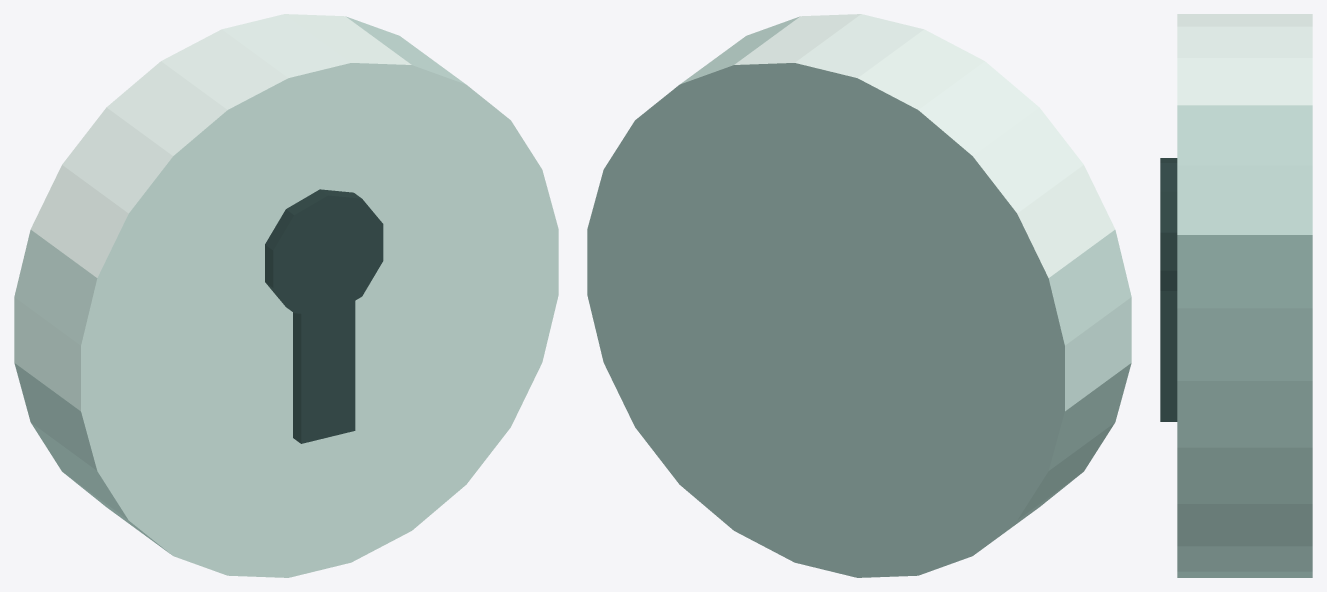
File: LockWall_Emblem.gltf
3 renders of one model, left to right at view 1: azimuth 30°, elevation 25°; view 2: azimuth 150°, elevation 25°; view 3: azimuth 270°, elevation 25°, orthographic.
Parts seen in each view (by area): view 1: LockWall_Emblem_baked; view 2: LockWall_Emblem_baked; view 3: LockWall_Emblem_baked.
Boxes of the visible parts, x1,y1,x2,y2 form: LockWall_Emblem_baked: [14, 14, 558, 577]; LockWall_Emblem_baked: [587, 14, 1131, 577]; LockWall_Emblem_baked: [1160, 14, 1312, 577].
Size of the model in its own units: 0.4957 by 0.4957 by 0.135.
